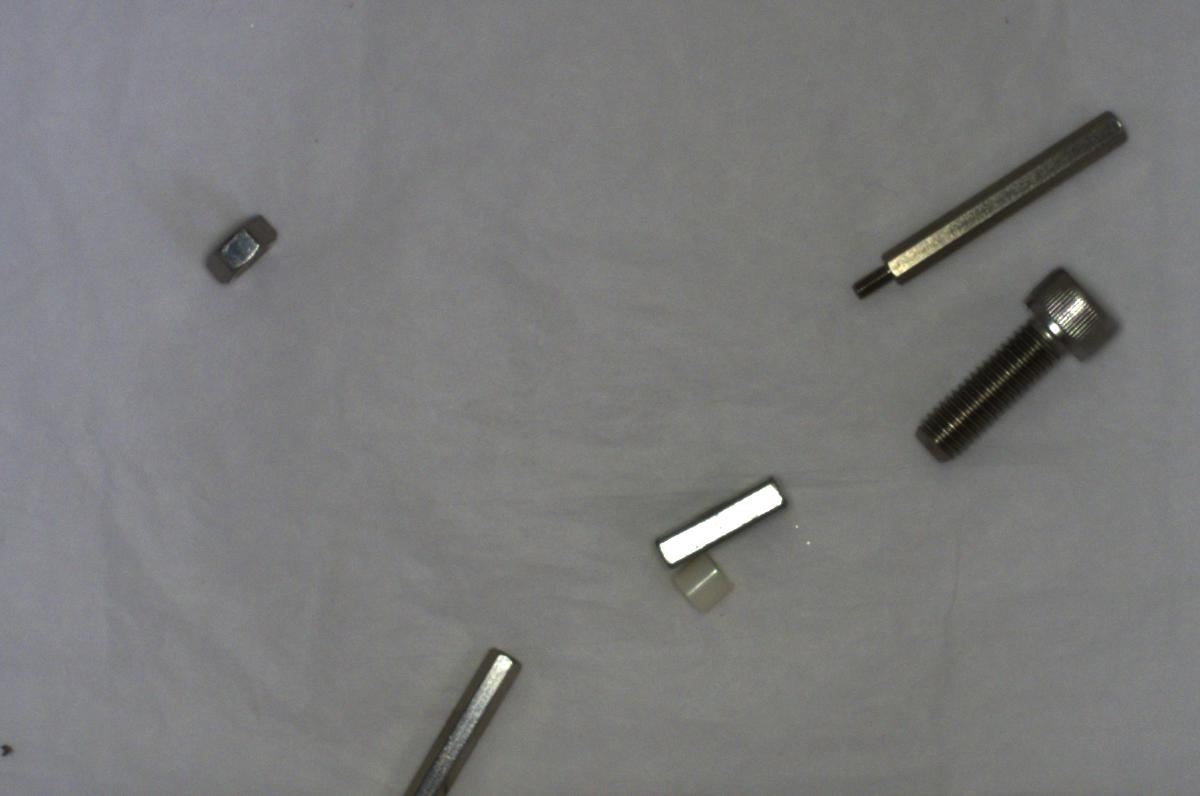Double hexagonal column: (395, 641, 525, 795)
Hexagon nut: (192, 205, 277, 289)
Hexagon screw: (914, 263, 1131, 462)
Hexagonal steel column: (841, 95, 1134, 303)
Plastic cushion pillar: (658, 554, 740, 621)
Rectangular nut: (653, 476, 798, 567)
